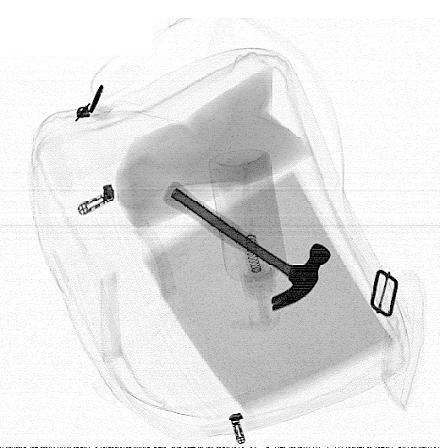Hammer: (162, 180, 331, 312)
